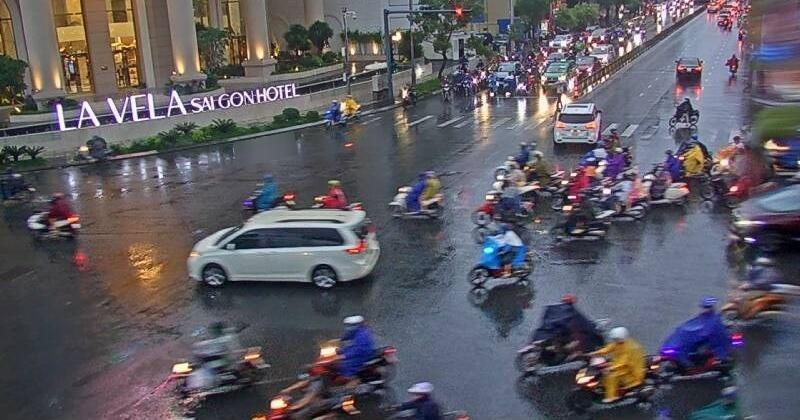xe hoi: (188, 209, 375, 289), (553, 103, 598, 144)
